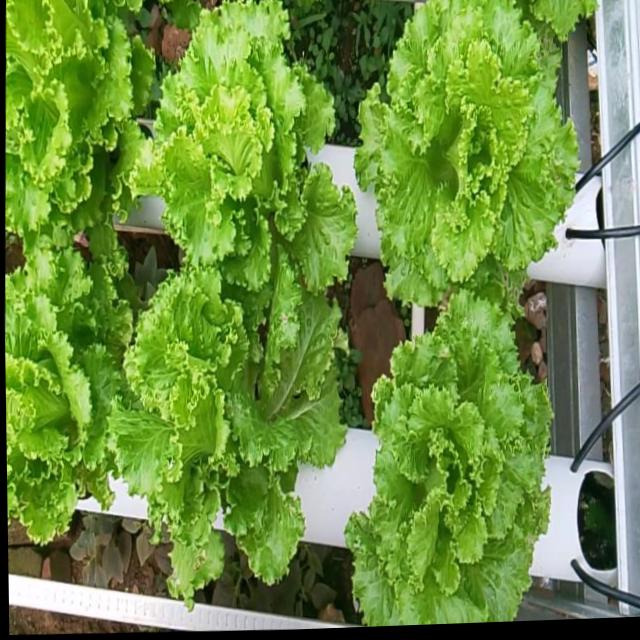Mature: (99, 268, 341, 603), (340, 277, 551, 627), (346, 0, 577, 298), (128, 0, 349, 310), (5, 250, 119, 553), (5, 0, 140, 254)
